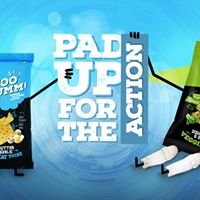plastic: (1, 54, 31, 168), (171, 40, 200, 148)
tooyumm: (1, 70, 28, 96)
wrapper: (163, 42, 200, 144), (1, 54, 34, 166)
